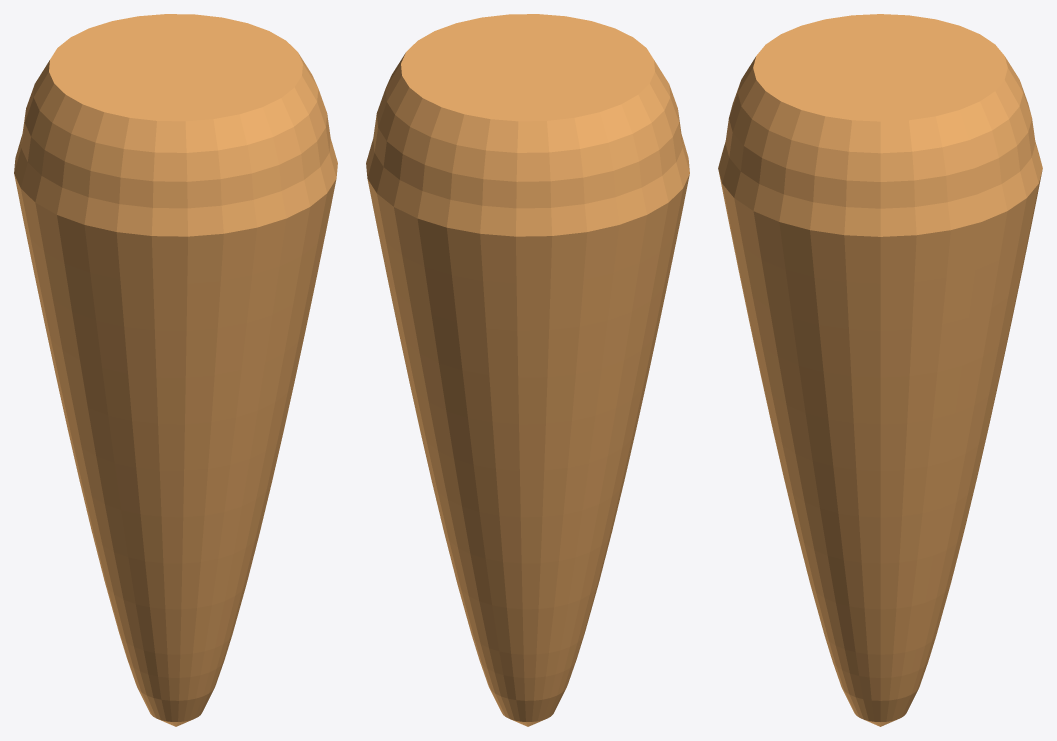
3 renders of one model, left to right at view 1: azimuth 30°, elevation 25°; view 2: azimuth 150°, elevation 25°; view 3: azimuth 270°, elevation 25°, orthographic.
Parts seen in each view (by area): view 1: world; view 2: world; view 3: world.
Part boxes in pixels (x1=…): world: x1=14, y1=14, x2=337, y2=726; world: x1=366, y1=14, x2=689, y2=726; world: x1=718, y1=14, x2=1042, y2=726.
Bounding box in the file's own units: 0.0146 × 0.0328 × 0.0146.
